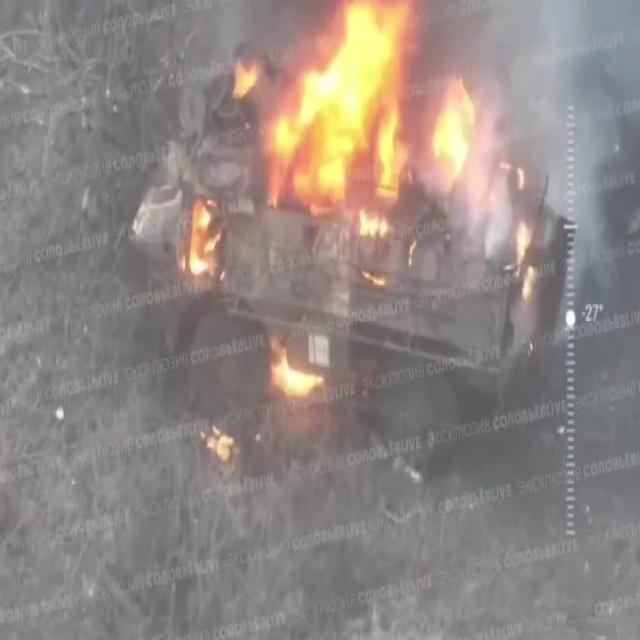Destroyed: (128, 28, 572, 440)
